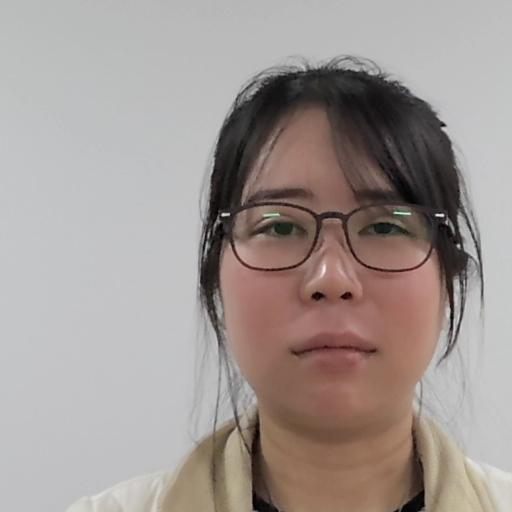no_glasses: (200, 59, 479, 422)
